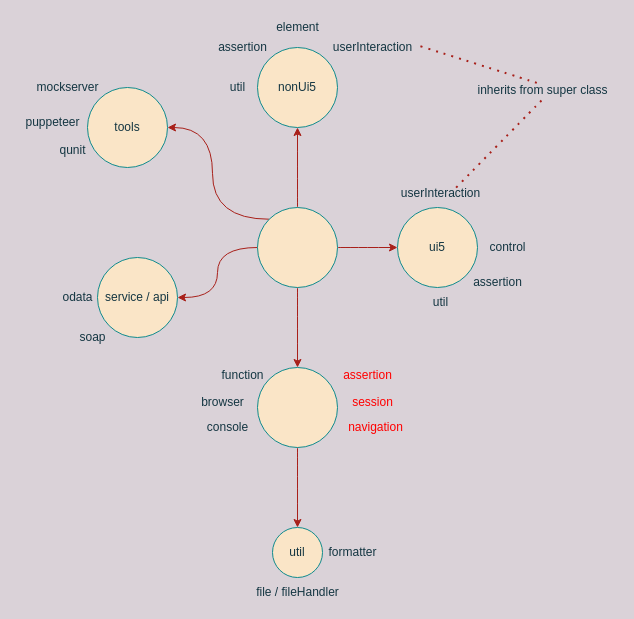
Some shapes in this 634 by 619 pixel diagram are drawn without their labels. The centre of each missing label's shape, as x and y in pixels:
"common" belongs at (x=297, y=407).
"qmate namespaces" belongs at (x=297, y=247).
